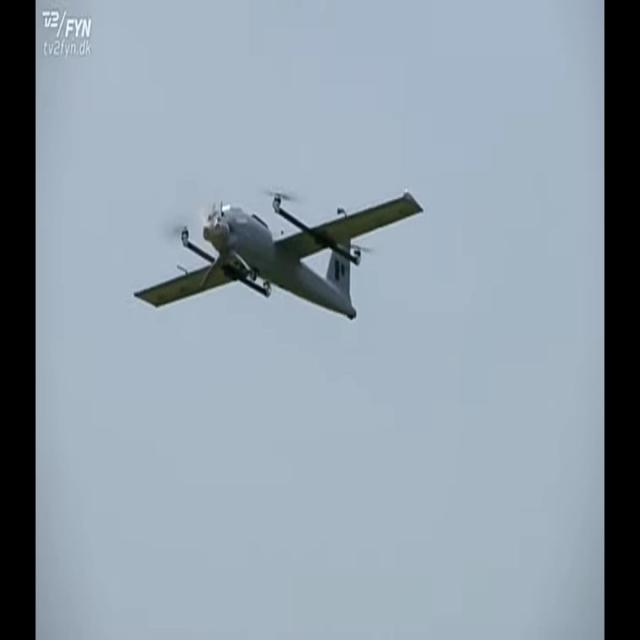iha: (132, 189, 425, 320)
